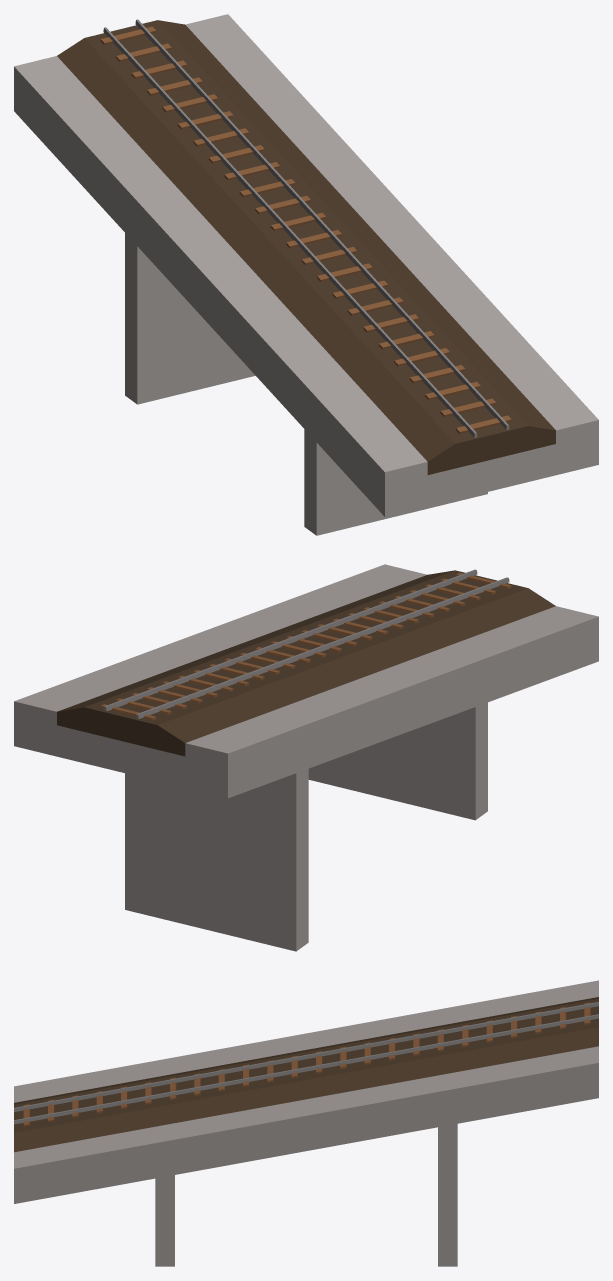
The model's file is bridge-rail-hill.fbx.
3 renders of one model, top to bottom at view 1: azimuth 30°, elevation 25°; view 2: azimuth 150°, elevation 25°; view 3: azimuth 270°, elevation 25°, orthographic. The views are drawn at different scales.
Parts seen in each view (by area): view 1: bridge-rail-hill; view 2: bridge-rail-hill; view 3: bridge-rail-hill.
Part boxes in pixels (left/top/right/bottom): bridge-rail-hill: left=14, top=14, right=598, bottom=535; bridge-rail-hill: left=14, top=564, right=598, bottom=951; bridge-rail-hill: left=14, top=980, right=598, bottom=1266.
Size of the model in its own units: 10 by 12.75 by 30.
